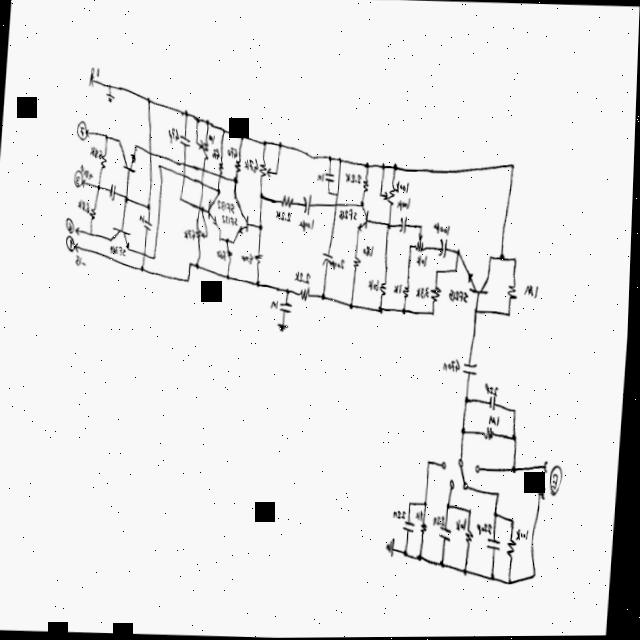capacitor: (321, 252, 335, 270), (465, 362, 481, 377), (280, 300, 295, 315), (304, 194, 314, 216), (440, 238, 450, 259), (442, 526, 455, 542), (490, 538, 505, 551), (110, 182, 118, 202), (406, 522, 419, 534), (180, 135, 192, 148), (401, 215, 409, 234), (144, 216, 154, 231), (491, 395, 500, 411), (325, 173, 336, 183)
crossover: (201, 179, 206, 188), (202, 166, 207, 174), (143, 251, 148, 259), (183, 172, 188, 179), (148, 150, 153, 156), (198, 205, 203, 211), (335, 202, 339, 208), (183, 161, 187, 167), (219, 174, 222, 178)
ground: (389, 537, 400, 559), (279, 321, 291, 333), (106, 92, 116, 103)
junction: (514, 465, 521, 475), (466, 396, 473, 406), (379, 305, 386, 315), (474, 307, 481, 316), (239, 131, 245, 141), (443, 559, 449, 569), (421, 553, 427, 562), (403, 307, 409, 316), (501, 253, 506, 263), (467, 567, 472, 577), (228, 272, 233, 282), (393, 163, 399, 171), (97, 183, 103, 191), (226, 237, 232, 245), (464, 427, 469, 436), (257, 279, 262, 288), (260, 223, 265, 232), (515, 434, 520, 443), (509, 310, 514, 319), (494, 573, 499, 582), (388, 221, 393, 230), (184, 109, 189, 118), (234, 177, 240, 184), (366, 162, 371, 170), (351, 302, 356, 310), (323, 293, 328, 301), (142, 264, 147, 272), (197, 261, 202, 269), (511, 162, 516, 170), (147, 96, 152, 104), (148, 203, 153, 211), (279, 141, 284, 149), (125, 195, 130, 203), (382, 163, 387, 171), (263, 139, 268, 147), (471, 508, 476, 516), (411, 500, 416, 508), (499, 490, 504, 498), (196, 116, 201, 124), (514, 518, 519, 526), (427, 500, 432, 508), (497, 511, 502, 519), (222, 127, 227, 135), (449, 502, 454, 510), (361, 200, 366, 208), (287, 288, 293, 294), (515, 408, 520, 415), (490, 254, 495, 261), (206, 119, 211, 126), (329, 155, 334, 162), (407, 550, 412, 557), (515, 256, 519, 264), (261, 192, 265, 200), (410, 244, 414, 252), (190, 261, 195, 267), (420, 224, 425, 230), (90, 231, 95, 237), (436, 269, 441, 275), (433, 310, 437, 317), (339, 157, 343, 164), (430, 459, 434, 466), (180, 195, 184, 202), (458, 249, 462, 256), (512, 579, 516, 586), (536, 572, 540, 579), (159, 163, 163, 170), (218, 188, 222, 195), (202, 206, 206, 213), (219, 236, 223, 243), (195, 139, 199, 146), (153, 254, 158, 259), (105, 134, 109, 140), (188, 277, 192, 283), (456, 268, 460, 274), (336, 191, 340, 197), (206, 233, 210, 239), (329, 189, 332, 195), (276, 171, 279, 176), (234, 239, 237, 244), (109, 83, 111, 88)
resistor: (383, 185, 397, 208), (260, 160, 272, 180), (484, 424, 499, 440), (508, 283, 521, 301), (431, 286, 444, 303), (468, 527, 478, 549), (416, 234, 427, 253), (510, 540, 520, 560), (300, 286, 313, 301), (199, 141, 209, 160), (282, 195, 295, 209), (381, 279, 389, 301), (423, 520, 432, 538), (234, 158, 244, 174), (101, 151, 109, 170), (354, 254, 363, 270), (196, 227, 207, 240), (363, 177, 371, 193), (404, 283, 412, 298), (90, 206, 98, 220), (255, 253, 264, 265), (228, 247, 234, 261), (219, 161, 225, 174)
switch: (440, 459, 485, 492)
terminal: (541, 486, 551, 501), (546, 461, 553, 474), (76, 226, 82, 235), (76, 242, 81, 252), (87, 127, 90, 139), (83, 178, 87, 187), (92, 75, 95, 82)
text: (550, 464, 567, 498), (449, 289, 472, 304), (340, 208, 360, 222), (434, 221, 452, 236), (445, 358, 463, 373), (218, 200, 238, 213), (221, 214, 241, 227), (76, 120, 88, 141), (480, 521, 496, 536), (300, 217, 316, 232), (526, 284, 541, 300), (244, 158, 260, 173), (346, 171, 363, 185), (110, 243, 127, 257), (75, 168, 87, 187), (486, 383, 501, 398), (277, 209, 293, 223), (296, 271, 313, 284), (519, 527, 533, 542), (417, 286, 432, 300), (397, 198, 412, 212), (396, 180, 411, 194), (78, 199, 93, 213), (168, 127, 180, 144), (81, 164, 93, 181), (66, 216, 77, 234), (66, 233, 77, 251), (90, 146, 104, 160), (333, 257, 347, 271), (436, 515, 449, 528), (185, 227, 197, 241), (396, 509, 410, 521), (370, 278, 382, 292), (459, 517, 470, 532), (364, 245, 376, 258), (227, 147, 239, 160), (418, 255, 430, 267), (243, 253, 255, 265), (76, 255, 88, 267), (490, 416, 503, 427), (218, 249, 228, 261), (395, 283, 405, 295), (208, 133, 217, 146), (418, 509, 427, 522), (272, 298, 281, 310), (213, 147, 221, 160), (88, 68, 94, 85), (317, 172, 326, 183), (140, 214, 146, 224), (95, 68, 100, 76)
transistor: (120, 142, 139, 175), (468, 272, 492, 296), (111, 225, 133, 251), (208, 197, 221, 226), (238, 212, 252, 237), (359, 204, 371, 233)
